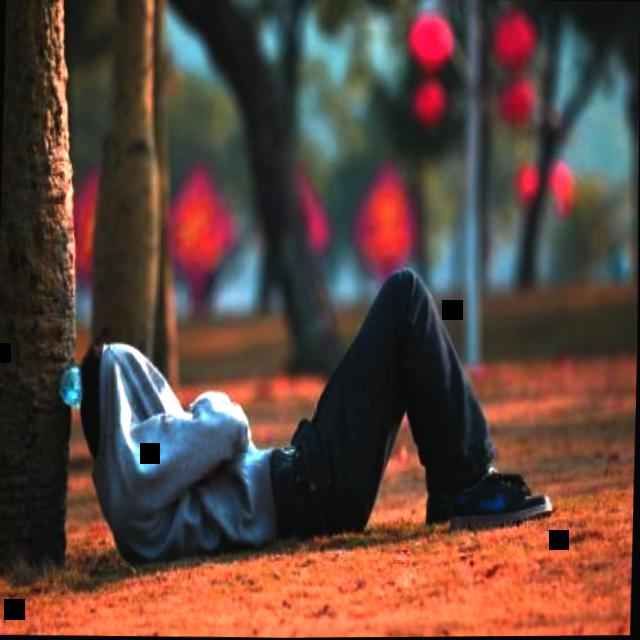Fall-Detected: (66, 245, 571, 569)
